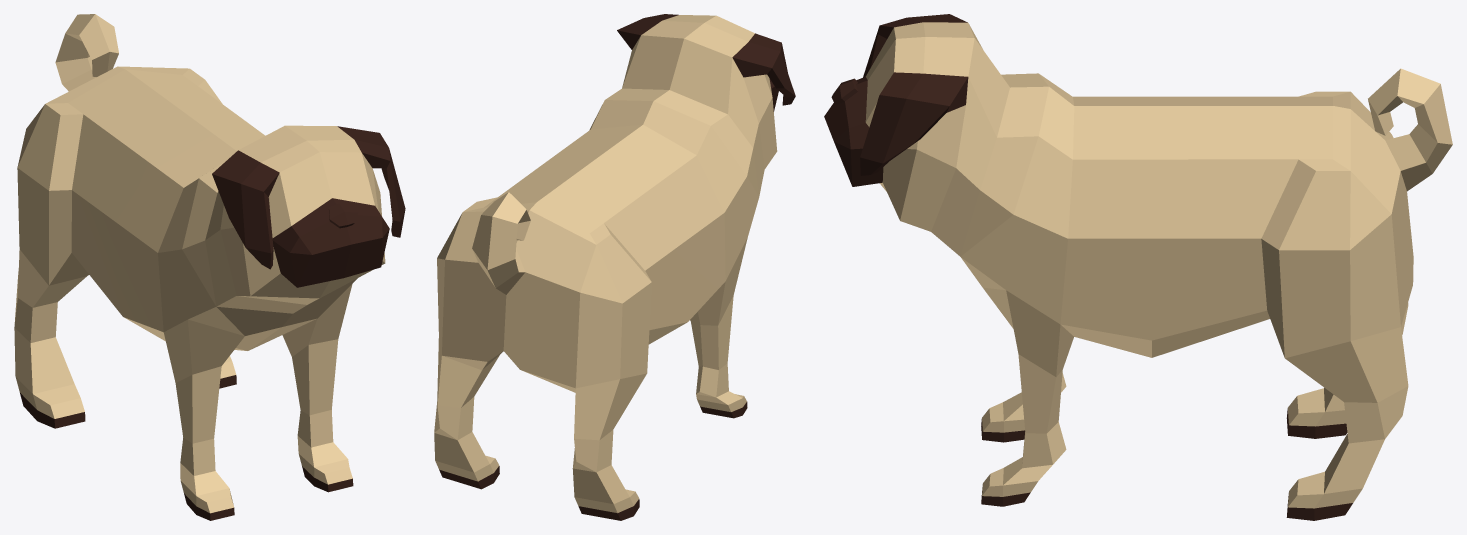
The model's file is pug.glb.
The picture shows the model from 3 angles, left to right: view 1: azimuth 30°, elevation 25°; view 2: azimuth 150°, elevation 25°; view 3: azimuth 270°, elevation 25°; orthographic projection. The views are drawn at different scales.
Parts seen in each view (by area): view 1: toy-pug; view 2: toy-pug; view 3: toy-pug.
Part boxes in pixels (box(x1,y1,x2,y2)): toy-pug: box(14, 14, 405, 520); toy-pug: box(434, 14, 795, 520); toy-pug: box(824, 14, 1452, 520).
Bounding box in the file's own units: 0.1531 × 0.2798 × 0.3693.
